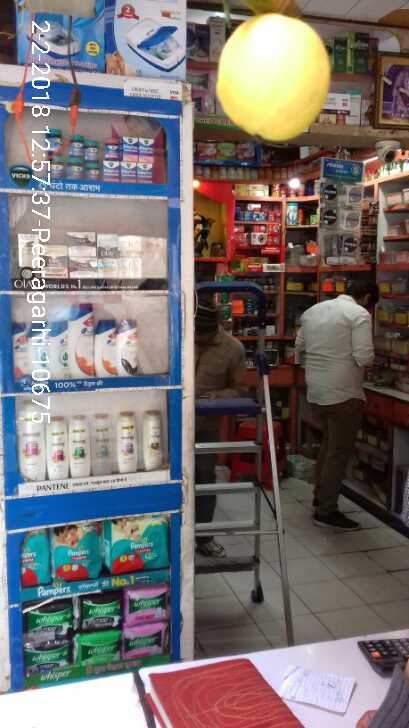vicks: (42, 125, 160, 191)
